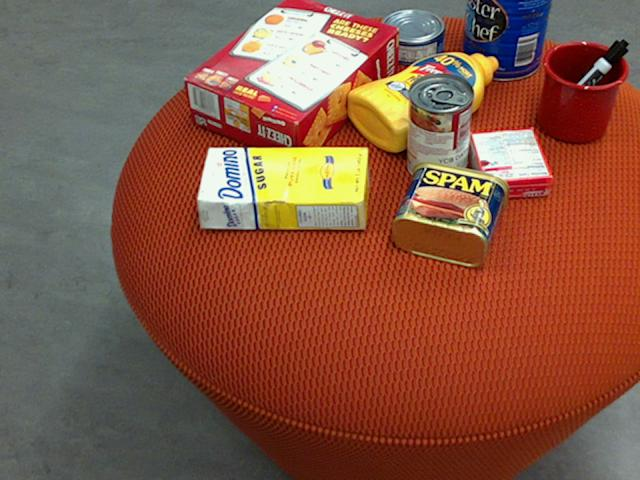cracker_box: (182, 0, 398, 165)
gelatin_box: (469, 129, 554, 199)
large_marker: (542, 36, 628, 126)
master_chef_can: (460, 0, 551, 79)
mug: (537, 40, 628, 142)
mustard_bottle: (346, 52, 498, 151)
potted_meat_can: (391, 159, 508, 266)
sugar_box: (194, 146, 367, 229)
tomato_soup_can: (406, 70, 472, 184)
tuna_fish_can: (378, 9, 444, 63)
